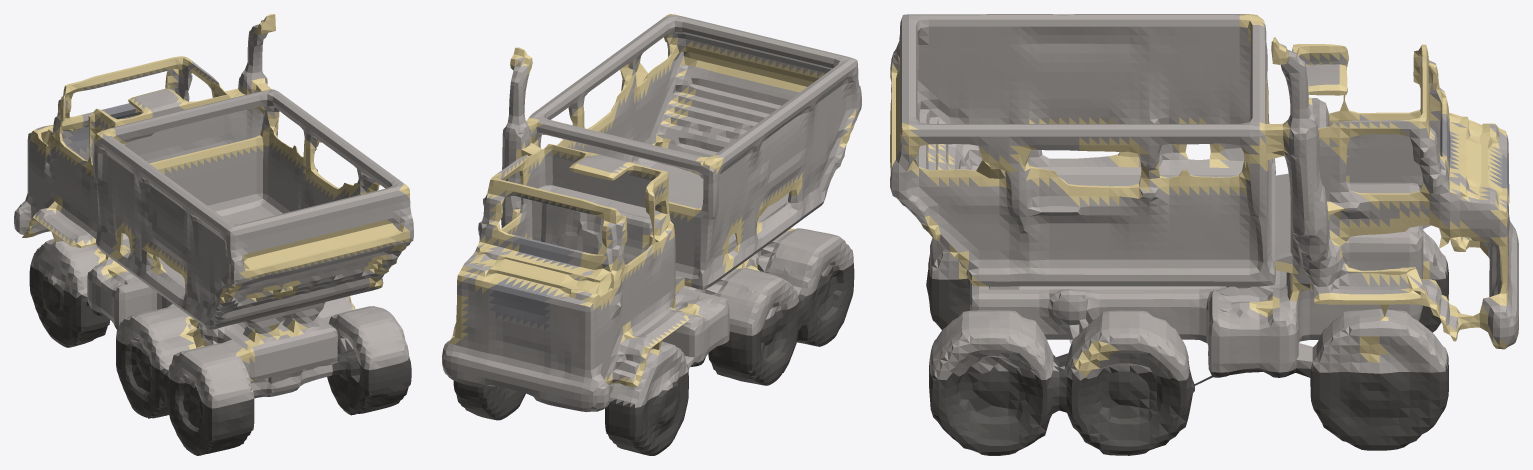
The model's file is unit_magpie.glb.
3 views of the same model, side by side, from view 1: azimuth 30°, elevation 25°; view 2: azimuth 150°, elevation 25°; view 3: azimuth 270°, elevation 25° (orthographic). The views are drawn at different scales.
Parts seen in each view (by area): view 1: Mesh_0.035; view 2: Mesh_0.035; view 3: Mesh_0.035.
Boxes of the visible parts, x1,y1,x2,y2 form: Mesh_0.035: (14, 14, 413, 455); Mesh_0.035: (442, 14, 861, 455); Mesh_0.035: (890, 14, 1518, 455).
Bounding box in the file's own units: 1.47 × 2.18 × 3.
